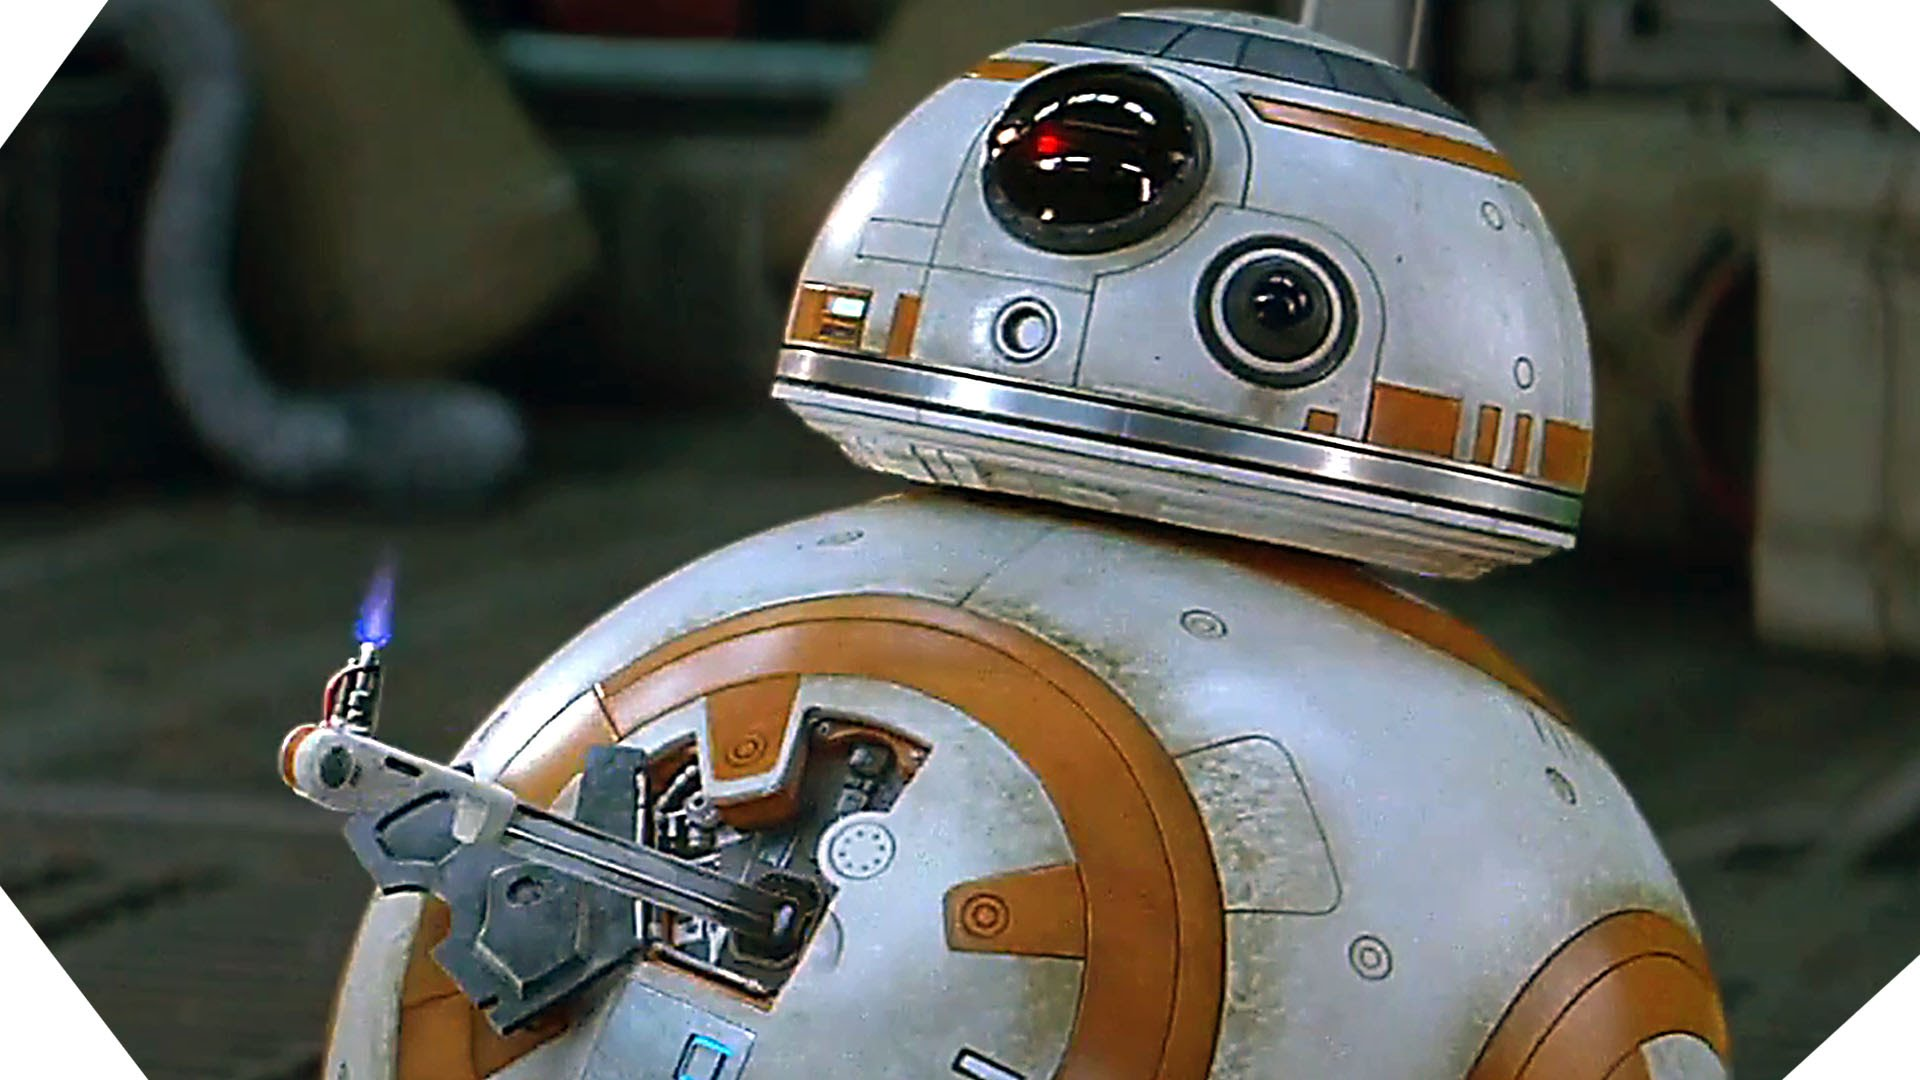bb8: (315, 11, 1735, 1080)
